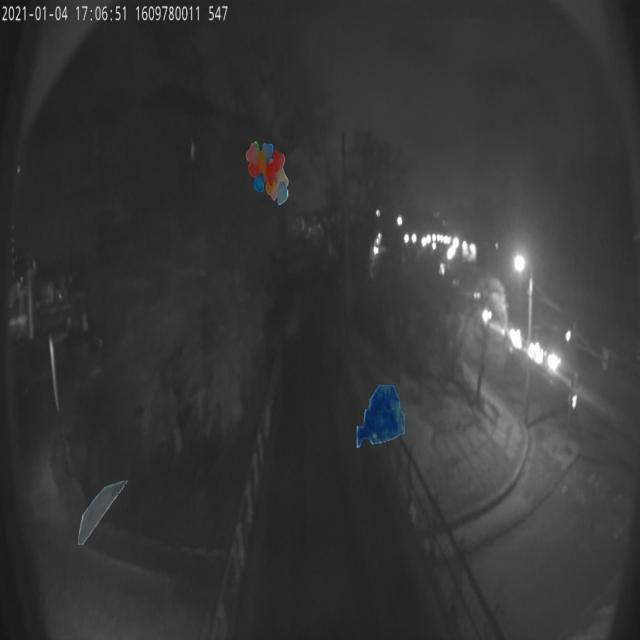balloon: (246, 141, 289, 205)
floating object: (76, 480, 128, 544)
plastic bag: (356, 384, 407, 448)
